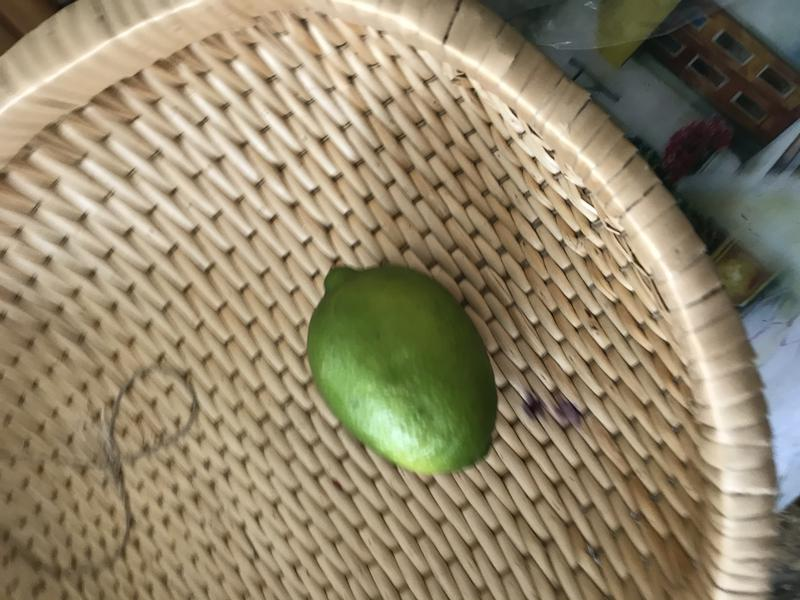lime: (293, 249, 526, 487)
